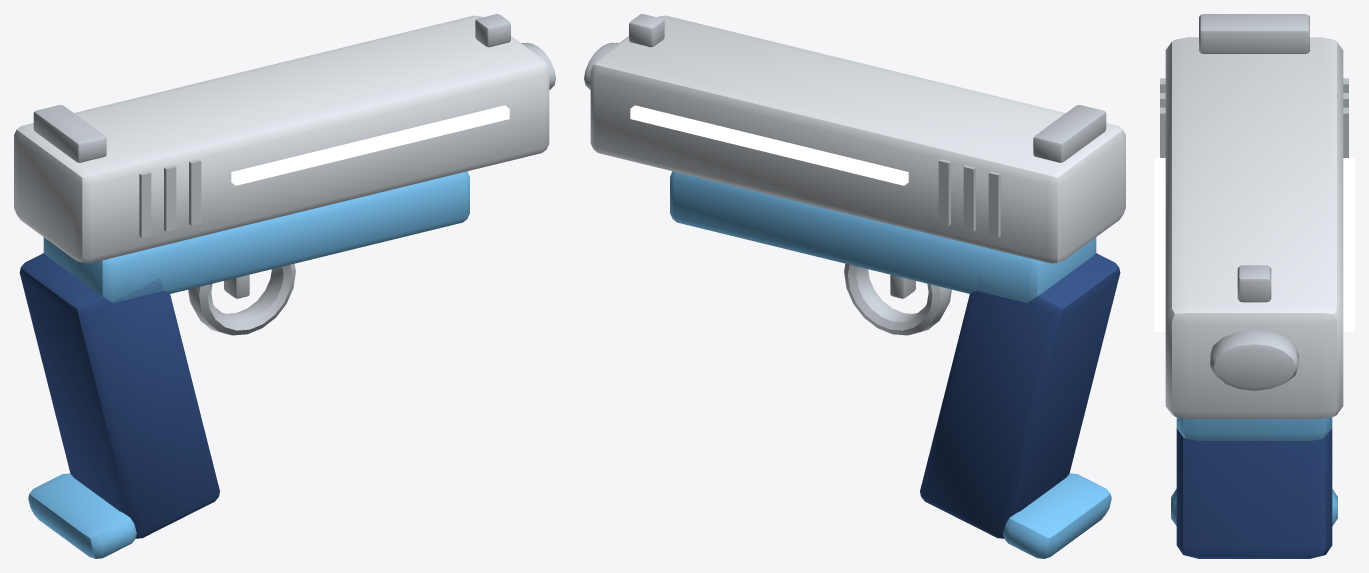
File: SGP_Pistol_Frost.glb
The picture shows the model from 3 angles, left to right: view 1: azimuth 30°, elevation 25°; view 2: azimuth 150°, elevation 25°; view 3: azimuth 270°, elevation 25°; orthographic projection. The views are drawn at different scales.
Parts seen in each view (by area): view 1: SGP_Pistol_Frost; view 2: SGP_Pistol_Frost; view 3: SGP_Pistol_Frost.
Part boxes in pixels (box(x1,y1,x2,y2)): SGP_Pistol_Frost: box(14, 14, 555, 558); SGP_Pistol_Frost: box(584, 14, 1125, 558); SGP_Pistol_Frost: box(1154, 14, 1354, 558).
Bounding box in the file's own units: 0.199 × 0.1593 × 0.0576.
